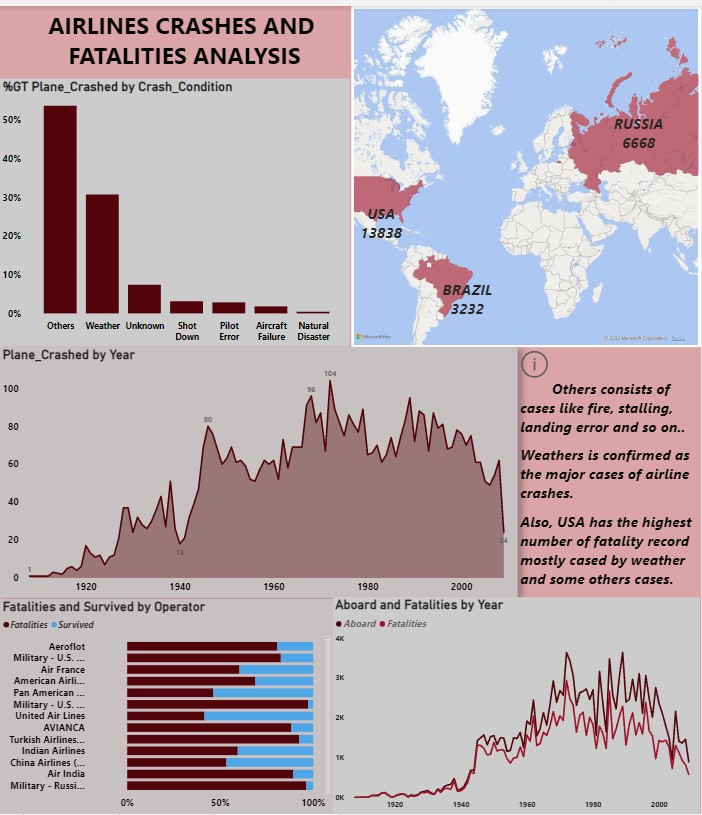

Layout of this report page (visuals, bound fields, positions):
{"tool":"powerbi","page":{"name":"Dashboard","canvas":[1300,1500],"ordinal":4},"visuals":[{"type":"columnChart","fields":{"Y":["Airplane_Crashes_and_Fatalities.Plane_Crashed"],"Category":["Airplane_Crashes_and_Fatalities.Crash_Condition"]},"box":[0,134.5,649.1,498.5],"z":0},{"type":"filledMap","fields":{"Category":["Airplane_Crashes_and_Fatalities.Country"]},"box":[651.5,0,649.1,632.9],"z":1000},{"type":"textbox","box":[0,0,684.5,123.8],"z":2000},{"type":"areaChart","fields":{"Category":["Airplane_Crashes_and_Fatalities.Date.Variation.Date Hierarchy.Year"],"Y":["Airplane_Crashes_and_Fatalities.Plane_Crashed"]},"box":[0,633.2,959.8,464.8],"z":3000},{"type":"hundredPercentStackedBarChart","fields":{"Category":["Airplane_Crashes_and_Fatalities.Operator"],"Y":["Sum(Airplane_Crashes_and_Fatalities.Fatalities)","Sum(Airplane_Crashes_and_Fatalities.Survived)"]},"box":[0,1098.9,616.7,401.1],"z":4000},{"type":"textbox","box":[797.5,503.1,139.1,81.1],"z":6000},{"type":"textbox","box":[649.1,361.7,115.9,83.5],"z":7000},{"type":"textbox","box":[1087.3,194.7,194.7,139.1],"z":8000},{"type":"textbox","box":[959.8,633.2,339.2,464.8],"z":9000},{"type":"actionButton","box":[959.8,633.2,67.8,62.8],"z":10000},{"type":"lineChart","fields":{"Category":["Airplane_Crashes_and_Fatalities.Date.Variation.Date Hierarchy.Year"],"Y":["Sum(Airplane_Crashes_and_Fatalities.Aboard)","Sum(Airplane_Crashes_and_Fatalities.Fatalities)"]},"box":[616.7,1096.6,681.6,403.4],"z":10001}]}

Visuals, with their boxes in screenshot pixels (x1, y1, x2, y2), scaled from the page's 1300x1500 canvas onto the 702x815 screenshot:
columnChart - Airplane_Crashes_and_Fatalities.Plane_Crashed x Airplane_Crashes_and_Fatalities.Crash_Condition: [0, 73, 351, 344]
filledMap - Airplane_Crashes_and_Fatalities.Country: [352, 0, 701, 344]
textbox: [0, 0, 370, 67]
areaChart - Airplane_Crashes_and_Fatalities.Date.Variation.Date Hierarchy.Year x Airplane_Crashes_and_Fatalities.Plane_Crashed: [0, 344, 518, 597]
hundredPercentStackedBarChart - Airplane_Crashes_and_Fatalities.Operator x Sum(Airplane_Crashes_and_Fatalities.Fatalities): [0, 597, 333, 814]
textbox: [431, 273, 506, 317]
textbox: [351, 197, 413, 242]
textbox: [587, 106, 692, 181]
textbox: [518, 344, 701, 597]
actionButton: [518, 344, 555, 378]
lineChart - Airplane_Crashes_and_Fatalities.Date.Variation.Date Hierarchy.Year x Sum(Airplane_Crashes_and_Fatalities.Aboard): [333, 596, 701, 814]
